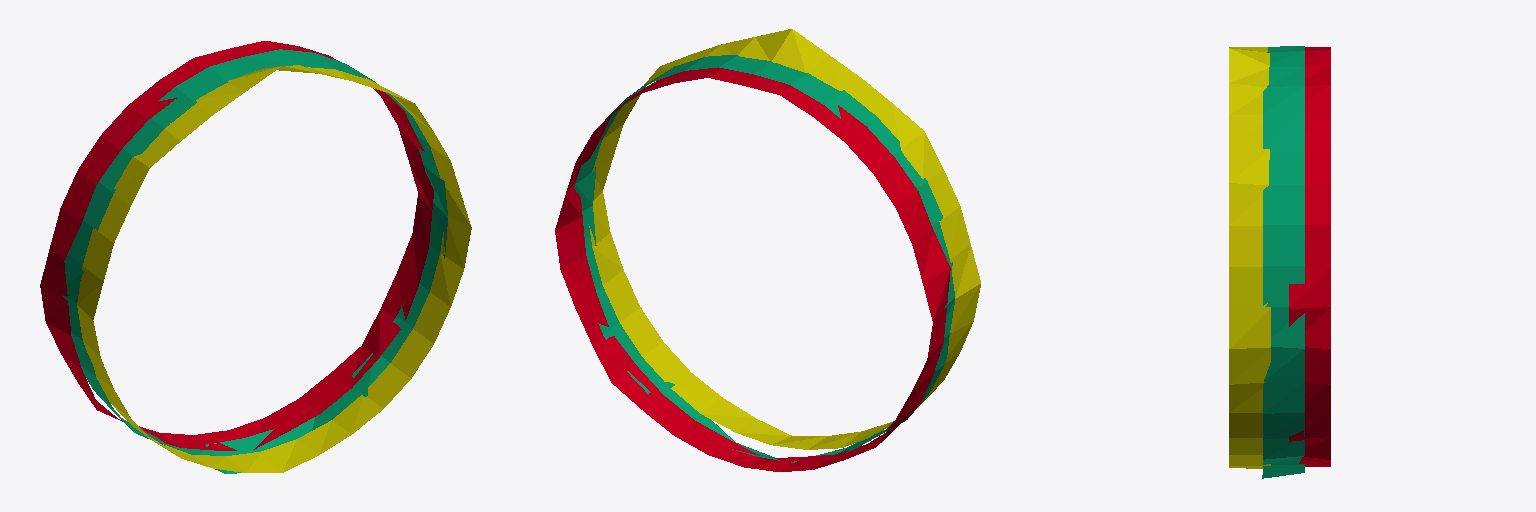
File: rainbow1.obj
3 views of the same model, side by side, from view 1: azimuth 30°, elevation 25°; view 2: azimuth 150°, elevation 25°; view 3: azimuth 270°, elevation 25° (orthographic).
Parts seen in each view (by area): view 1: Cylinder, Cylinder.002, Cylinder.001; view 2: Cylinder, Cylinder.002, Cylinder.001; view 3: Cylinder.001, Cylinder, Cylinder.002.
Part boxes in pixels (x1,y1,x2,y2): Cylinder: (77,65,471,472); Cylinder.002: (40,41,433,450); Cylinder.001: (62,49,447,473); Cylinder: (589,29,980,449); Cylinder.002: (555,67,950,471); Cylinder.001: (574,55,954,462); Cylinder.001: (1262,46,1304,478); Cylinder: (1229,47,1270,468); Cylinder.002: (1289,47,1330,466).
Bounding box in the file's own units: 4.18 × 4.37 × 0.9684.